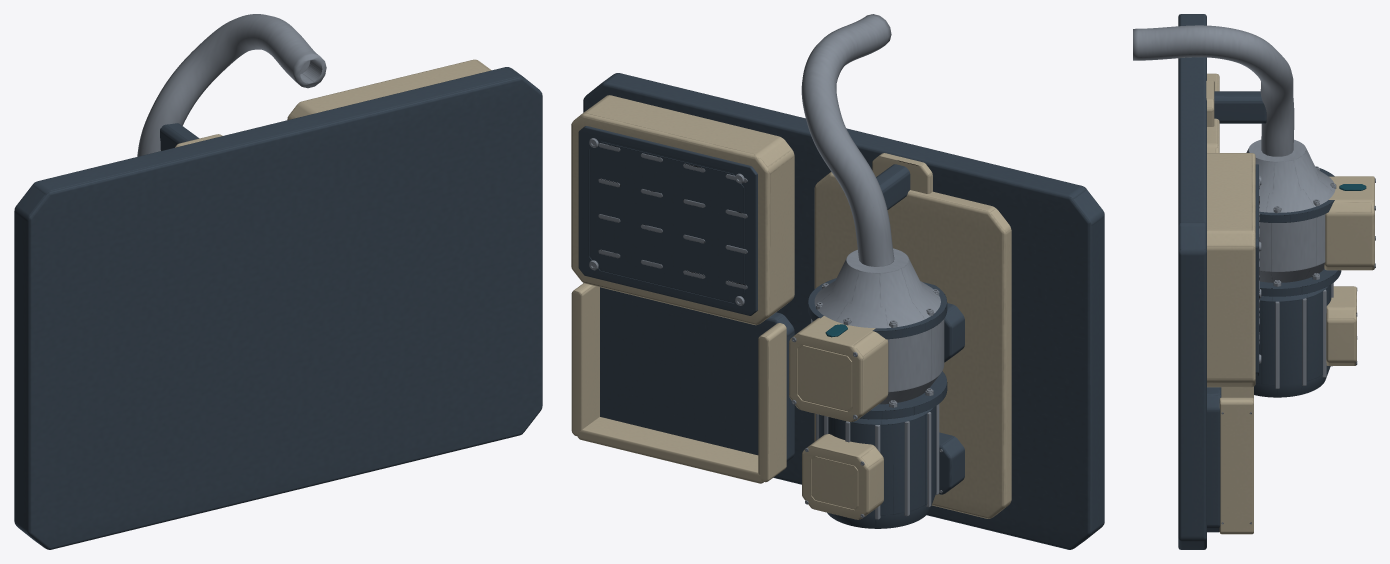
The model's file is ShoreWaterPump.fbx.
3 views of the same model, side by side, from view 1: azimuth 30°, elevation 25°; view 2: azimuth 150°, elevation 25°; view 3: azimuth 270°, elevation 25° (orthographic). The views are drawn at different scales.
Parts seen in each view (by area): view 1: base_frame, intake_pipe, packaging_pad, pipe_support; view 2: base_frame, pump_skid, packaging_surface, storage_pad, packaging_pad, intake_pipe, pump_volute, pump_control_housing, motor_housing, motor_terminal_box, storage_end_rail, storage_side_rail (+7 smaller); view 3: base_frame, packaging_pad, pump_volute, intake_pipe, motor_housing, storage_side_rail.001, pump_control_housing, motor_terminal_box, storage_pad, pipe_support, pump_flange, pump_flange.001 (+7 smaller).
Part boxes in pixels (<box>): base_frame: <box>14,67,542,549</box>; intake_pipe: <box>137,14,326,156</box>; packaging_pad: <box>287,59,491,120</box>; pipe_support: <box>160,123,199,150</box>; base_frame: <box>583,73,1104,549</box>; pump_skid: <box>814,172,1011,518</box>; packaging_surface: <box>578,126,757,315</box>; storage_pad: <box>600,287,794,461</box>; packaging_pad: <box>571,95,794,325</box>; intake_pipe: <box>801,14,894,266</box>; pump_volute: <box>811,248,944,404</box>; pump_control_housing: <box>789,316,888,422</box>; motor_housing: <box>819,406,936,528</box>; motor_terminal_box: <box>802,434,883,519</box>; storage_end_rail: <box>577,417,763,483</box>; storage_side_rail: <box>758,323,786,482</box>; base_frame: <box>1178,14,1206,549</box>; packaging_pad: <box>1207,153,1255,387</box>; pump_volute: <box>1246,139,1335,282</box>; intake_pipe: <box>1133,25,1294,156</box>; motor_housing: <box>1254,284,1331,397</box>; storage_side_rail.001: <box>1219,397,1253,533</box>; pump_control_housing: <box>1324,176,1374,270</box>; motor_terminal_box: <box>1326,286,1356,365</box>; storage_pad: <box>1207,387,1221,532</box>; pipe_support: <box>1214,91,1266,123</box>; pump_flange: <box>1259,269,1341,296</box>; pump_flange.001: <box>1259,168,1334,222</box>.
Bounding box in the file's own units: 300 × 257 × 135.
